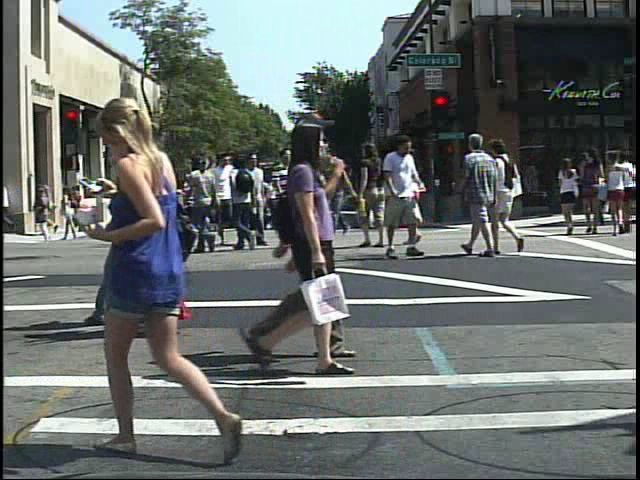person: (81, 82, 259, 474), (239, 118, 352, 380), (124, 134, 210, 343), (298, 105, 364, 367), (93, 128, 139, 330), (381, 135, 430, 262), (458, 127, 502, 264), (356, 135, 398, 252), (273, 146, 318, 253), (224, 150, 266, 261), (187, 145, 226, 258), (393, 144, 433, 250), (493, 133, 527, 256), (234, 148, 272, 254), (205, 151, 243, 252), (555, 152, 585, 237), (179, 171, 200, 240), (67, 182, 87, 232)
